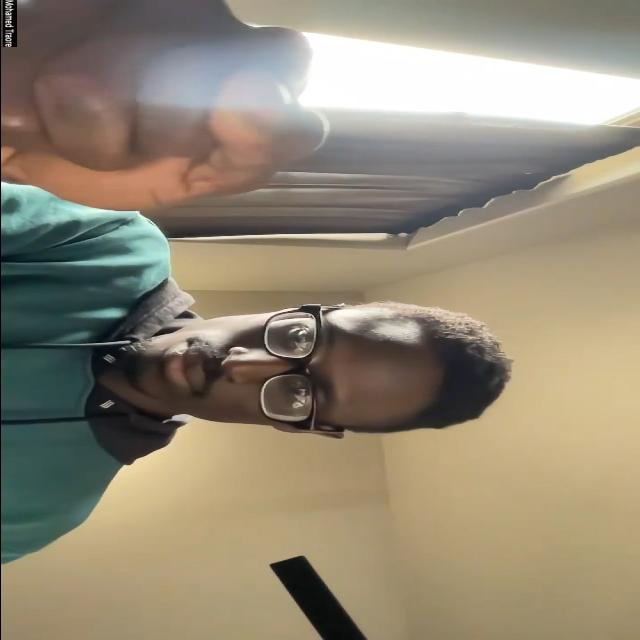Rock: (0, 0, 329, 212)
